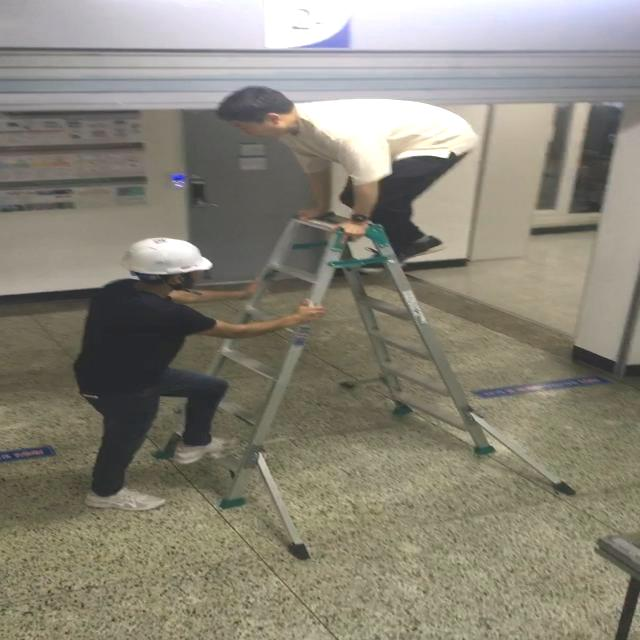face_nomask: (232, 118, 284, 142)
hand_noglove: (289, 199, 336, 225), (293, 297, 332, 328), (335, 215, 368, 245)
head_helmet: (121, 233, 218, 276)
head_nohelmet: (210, 76, 266, 127)
person: (73, 223, 278, 523), (211, 79, 465, 267)
shoes: (175, 422, 246, 468), (81, 480, 168, 517), (374, 230, 448, 271)
